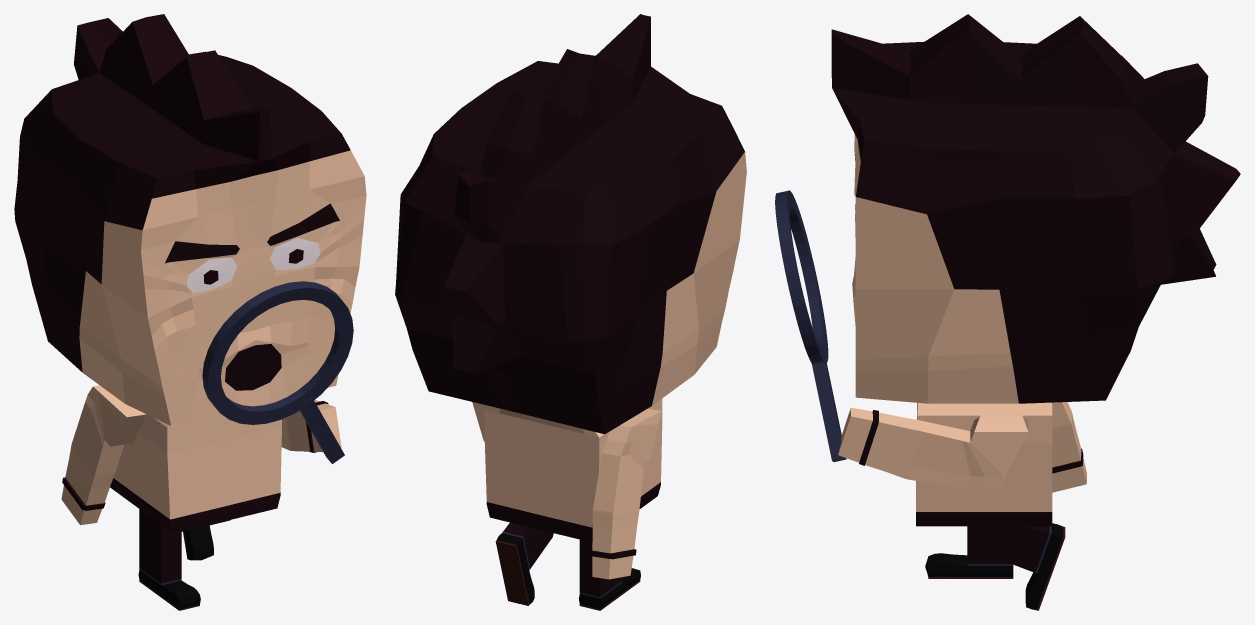
The model's file is EscupeFuego.fbx.
3 renders of one model, left to right at view 1: azimuth 30°, elevation 25°; view 2: azimuth 150°, elevation 25°; view 3: azimuth 270°, elevation 25°, orthographic. The views are drawn at different scales.
Visible parts, largest first — view 1: Character; view 2: Character; view 3: Character.
Part boxes in pixels (<box>): Character: <box>14,14,366,610</box>; Character: <box>395,14,746,610</box>; Character: <box>775,14,1240,610</box>.
Size of the model in its own units: 194 by 428 by 317.
